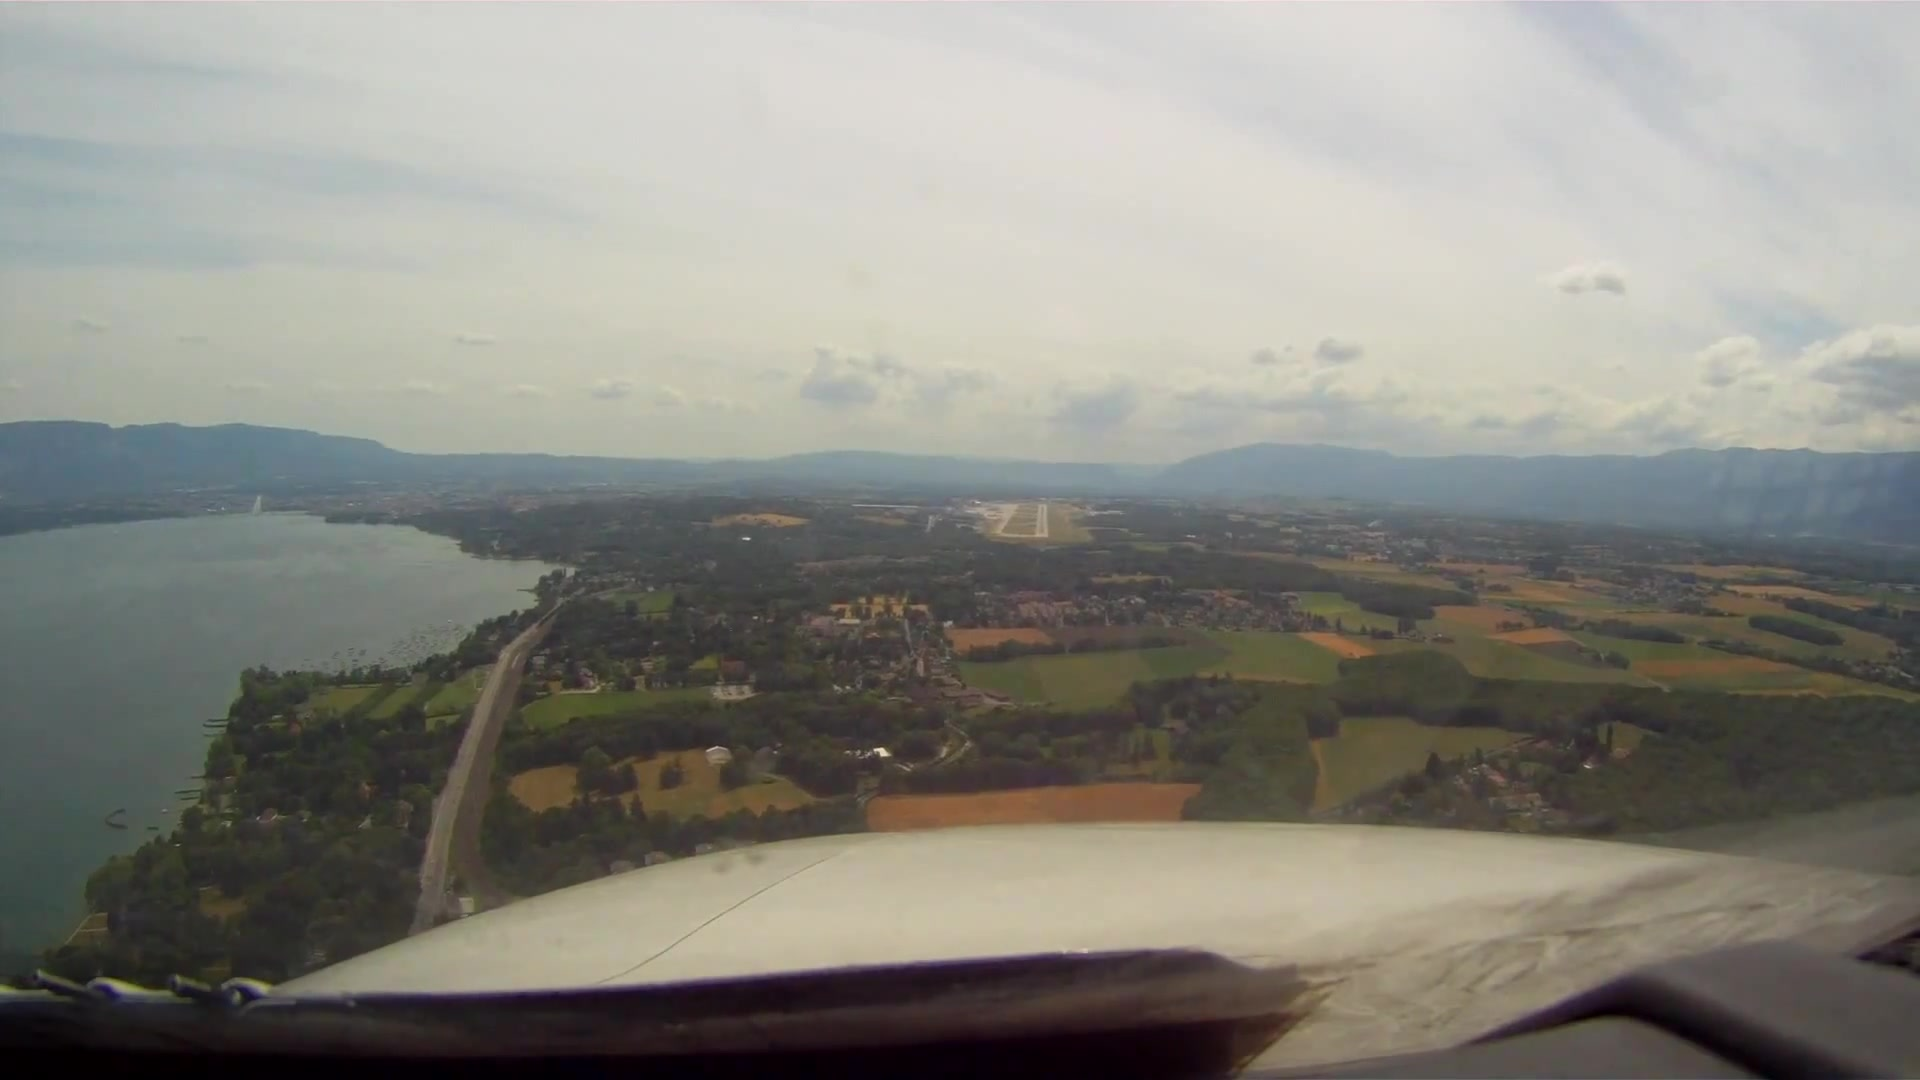runway: (1033, 502, 1048, 538)
